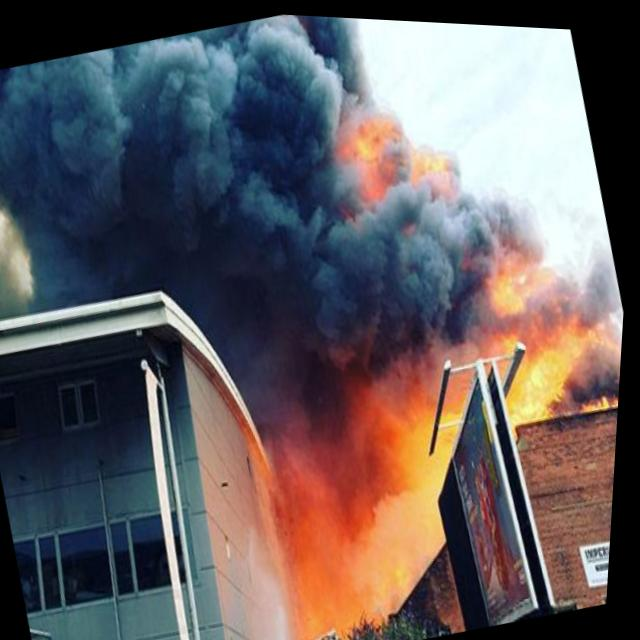fire: (462, 209, 631, 432), (340, 93, 459, 202), (377, 385, 483, 499)
